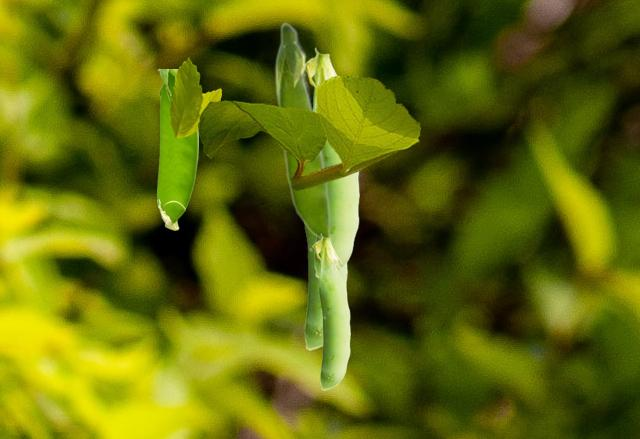pea: (274, 21, 332, 243), (306, 47, 358, 277), (157, 69, 197, 229), (312, 233, 349, 389), (303, 224, 346, 349)
